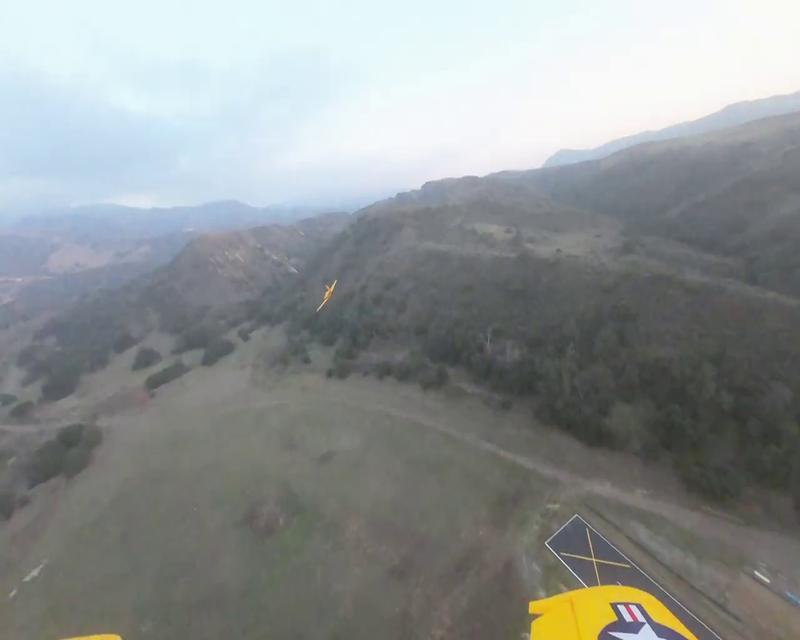UAV: (316, 279, 336, 312)
